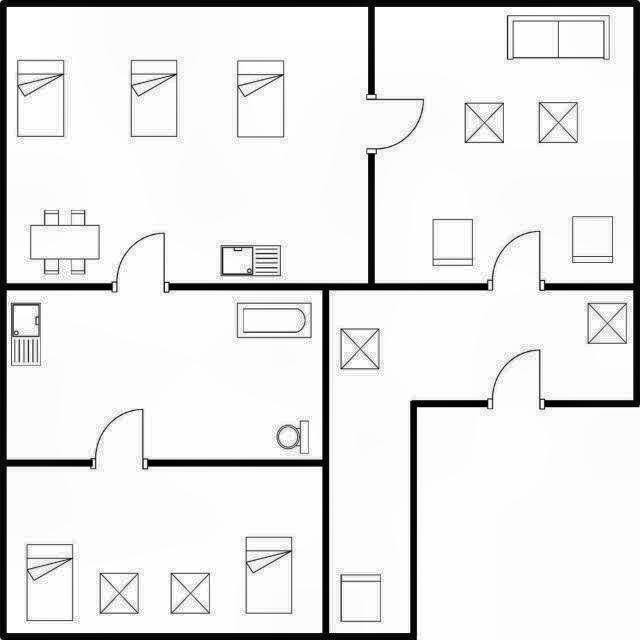room: (329, 290, 634, 633), (7, 7, 368, 284), (375, 7, 633, 283), (7, 290, 322, 460), (7, 467, 322, 633)
